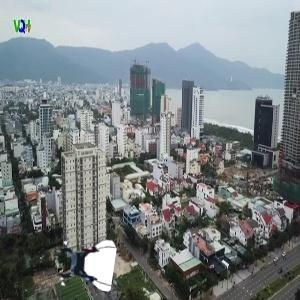drone: (57, 236, 116, 295)
